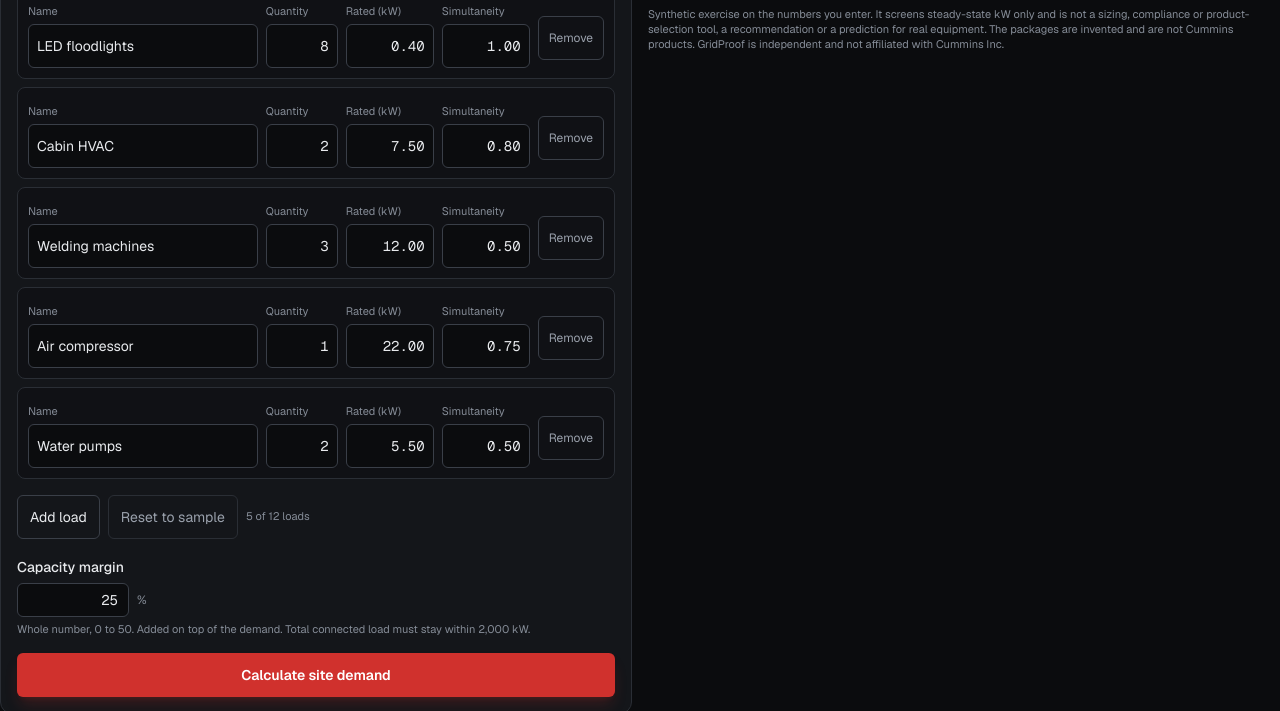
it: Mobile-Site Power Planner: results › sends the entered numbers to the stateless endpoint and shows the server's results
(page scrolled)
Click the button "Calculate site demand" at x=316, y=675, box x1=17 y1=653 x2=615 y2=697
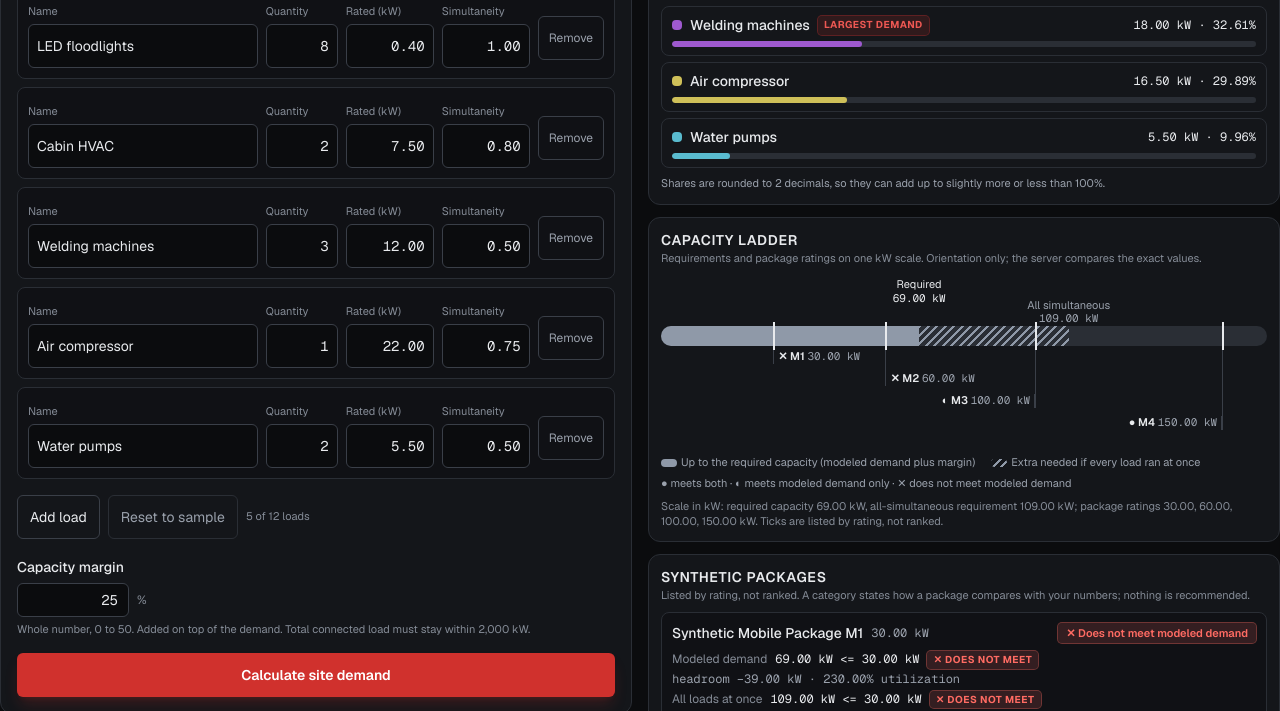
Check: the text "Largest demand" is shown once, box x1=818 y1=16 x2=929 y2=35
Check: the text "can add up to slightly more or less than 100%" is shown, box x1=661 y1=176 x2=1105 y2=190
